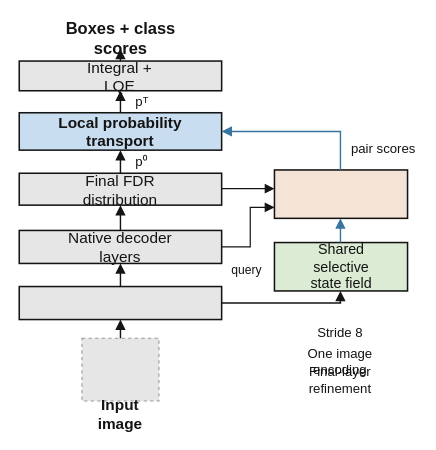
The diagram is 436 pixels wide and 450 high, and some of its shapes have lost their labels. Grey dashed boxes stand in for pictures. The centre of each missing label's shape, as x and y in pixels:
Adjacent-pair comparison: the point at 340,194
Backbone + encoder: the point at 120,302
